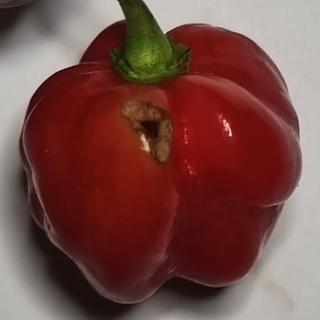Defect: (123, 94, 181, 167)
